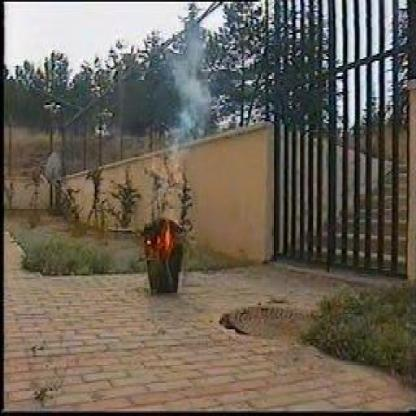-: (175, 26, 215, 140)
foggia-v2-map80-epoch100 - v1 4323: (154, 166, 184, 248)
